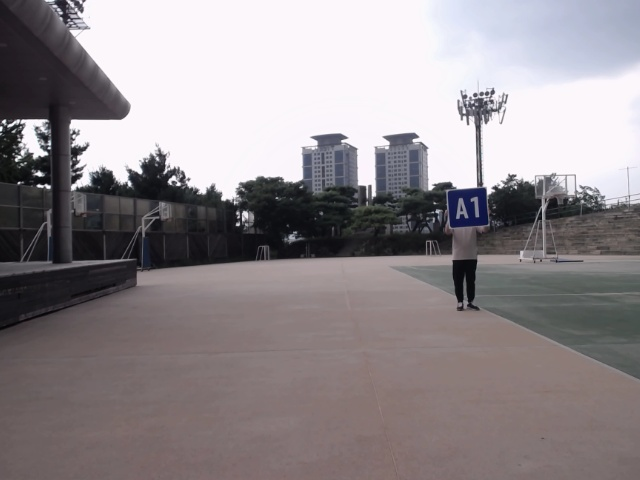delivery_a1: (447, 188, 489, 228)
